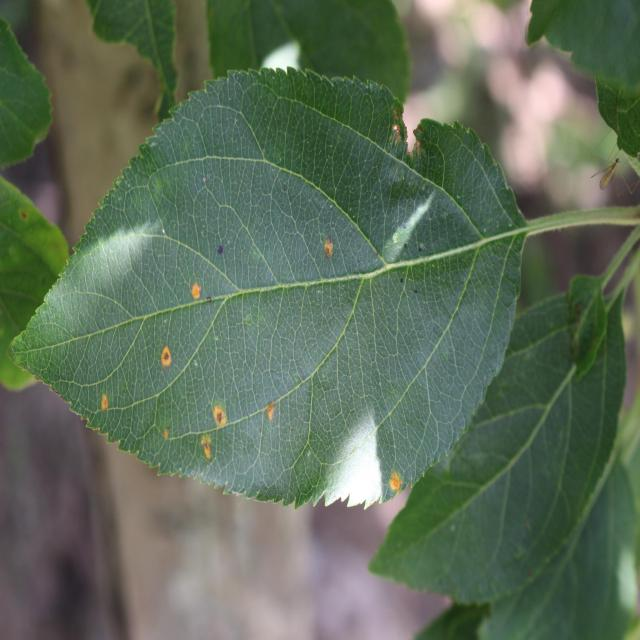Rust: (378, 457, 411, 508), (250, 389, 286, 430), (184, 269, 212, 313), (153, 335, 180, 377), (210, 393, 236, 433), (315, 231, 339, 272), (152, 419, 182, 450), (194, 436, 223, 458), (95, 392, 123, 414)
